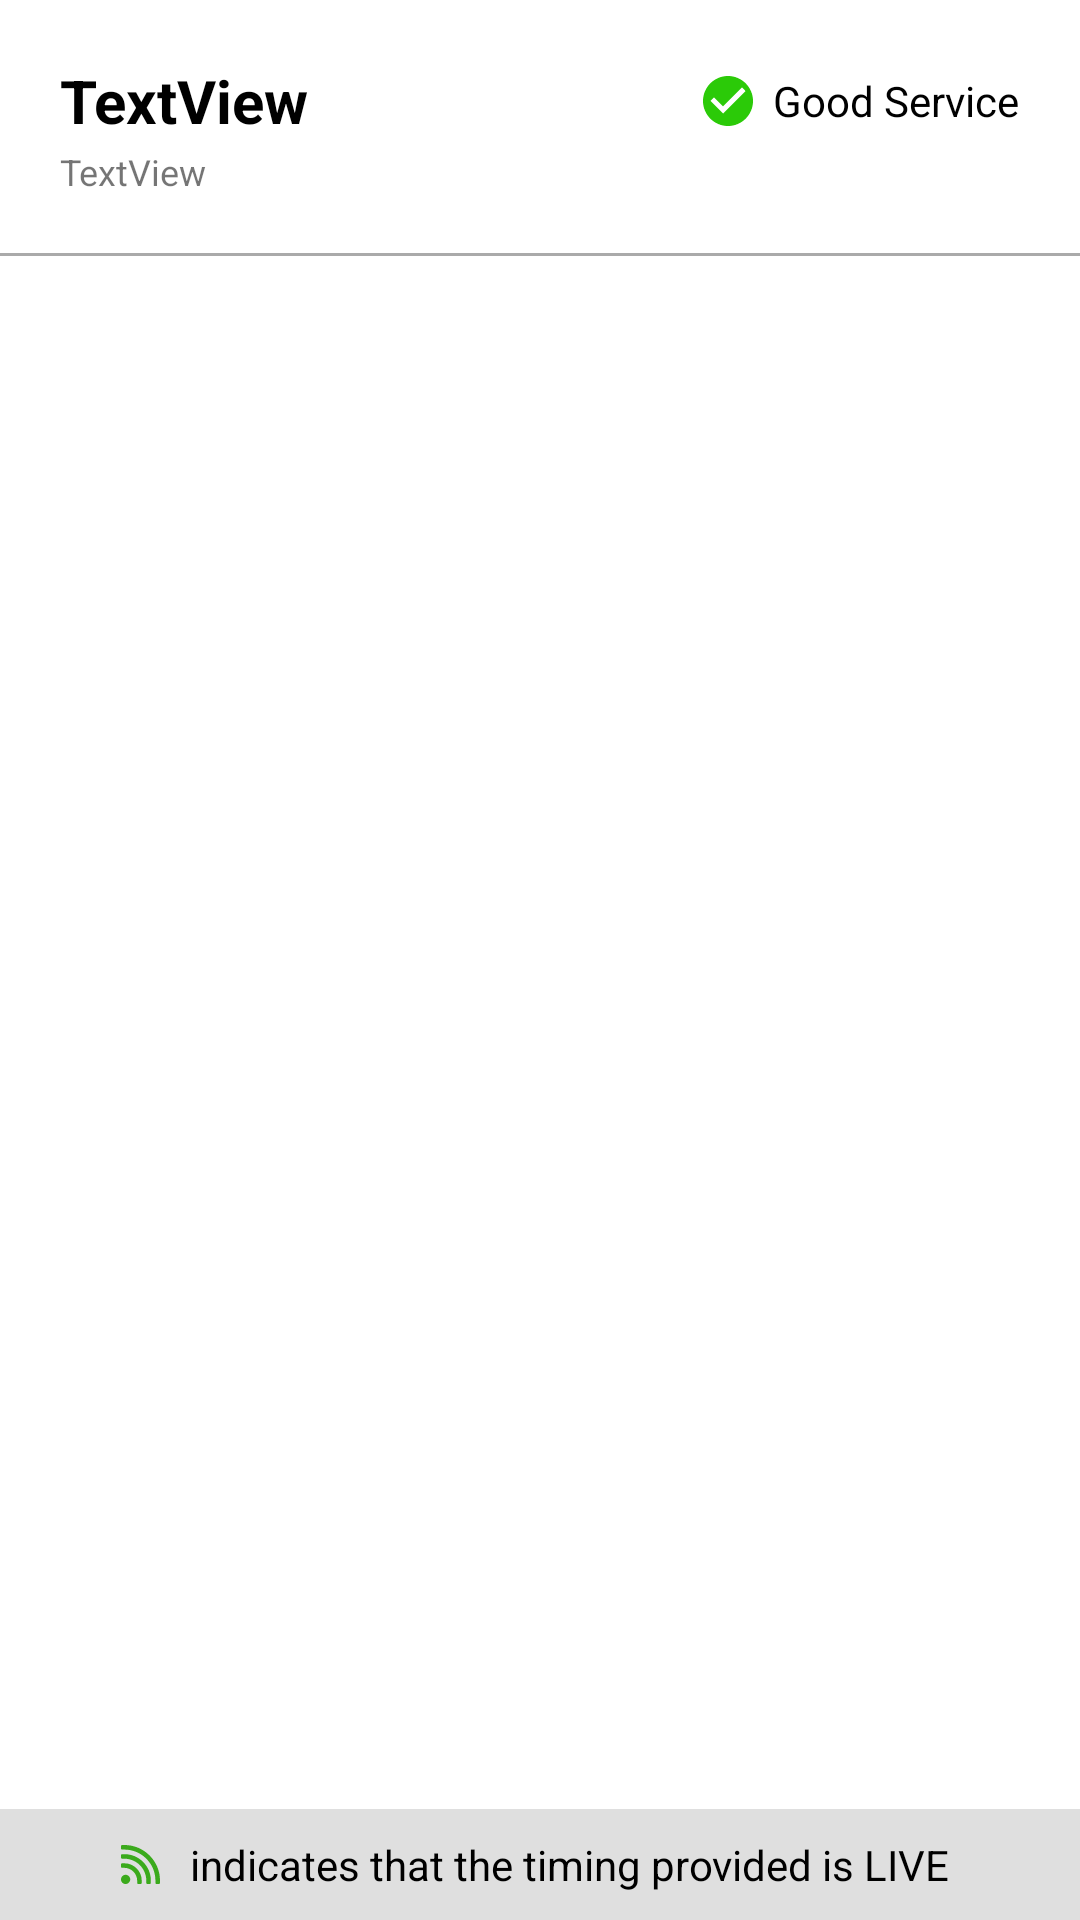

Screen size 1080px×1920px. Icon name, then its center in pixels as (x,y):
service ok: (728,101)
wifi signal: (140,1864)
